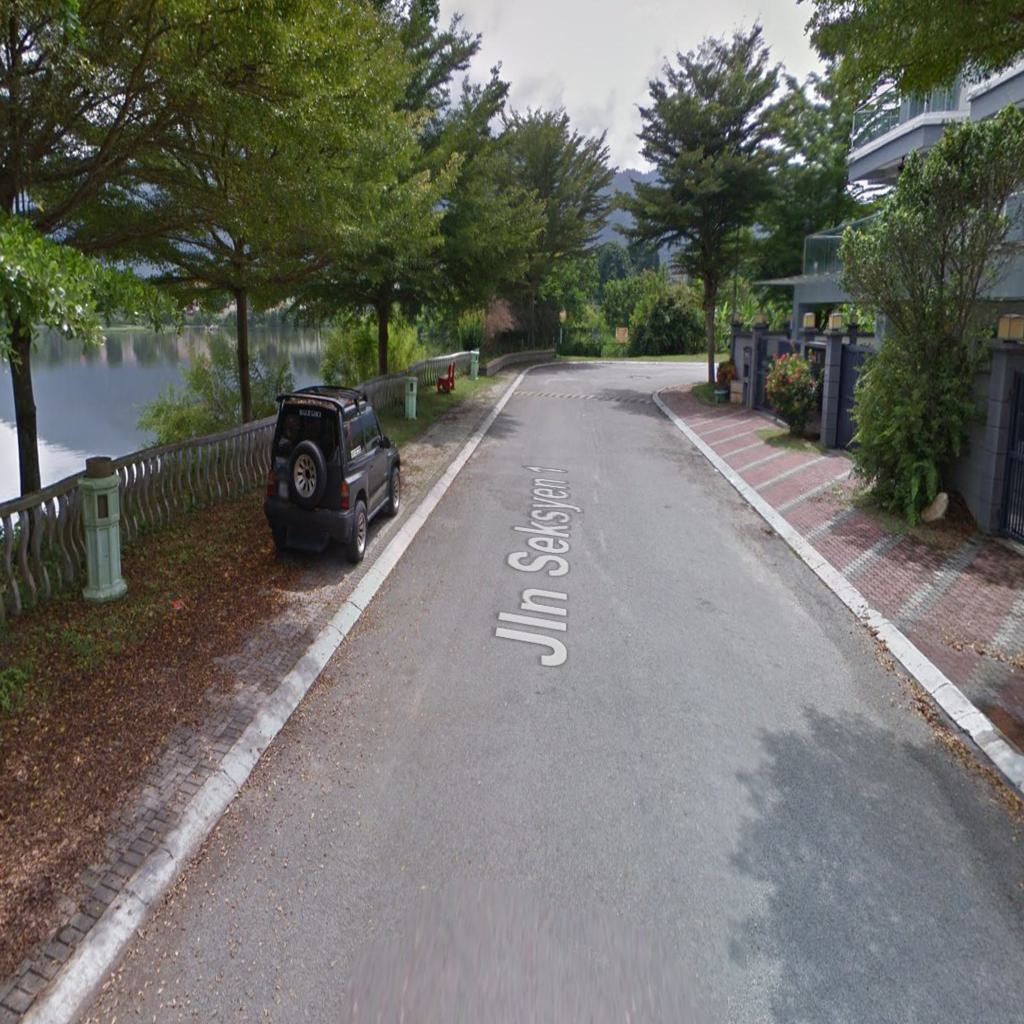Junction: (629, 336, 719, 402)
